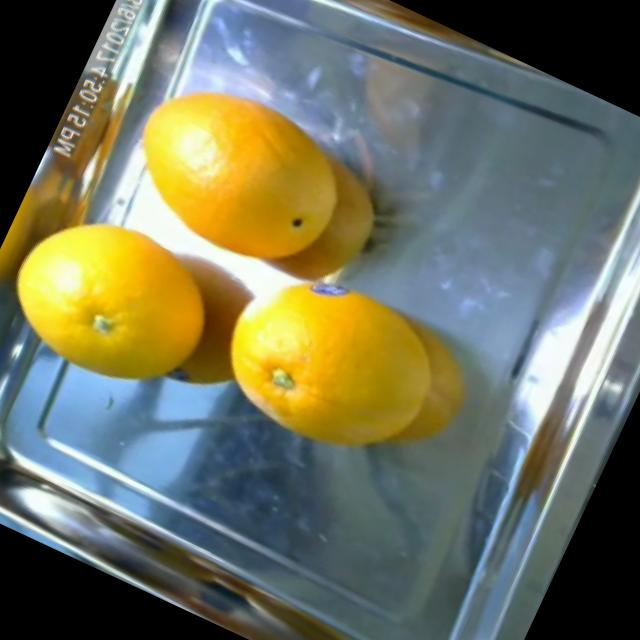Fruit: (97, 46, 350, 279), (258, 265, 504, 503)
